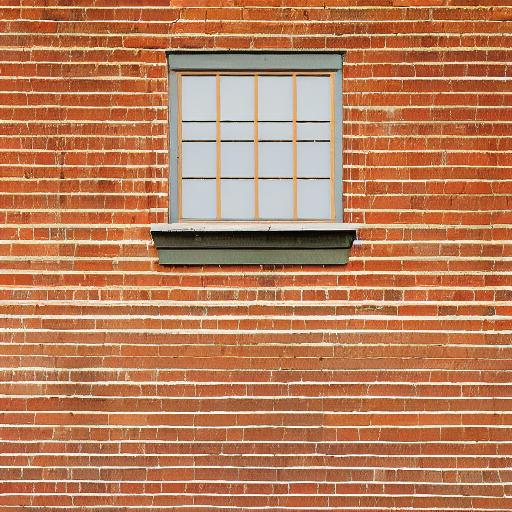Window: (144, 50, 360, 267)
